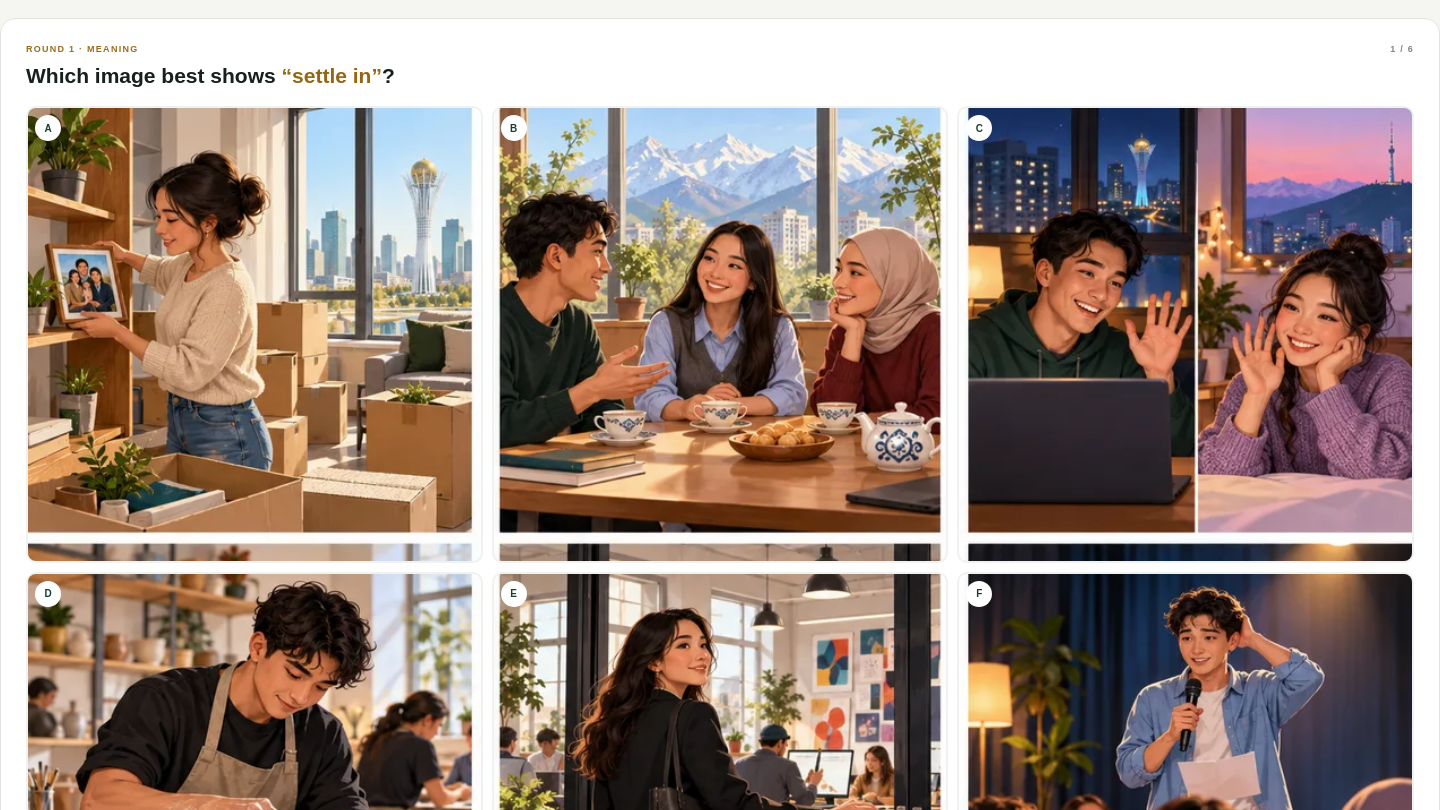
immersive activities › connects a vocabulary chunk to its localized scene
The image size is (1440, 810).
Check: the heading "Which image best shows “settle in”?" is shown, box [26,64,395,87]
Click the button named "Scene 1": (254,334) [26,106,483,563]
(page scrolled)
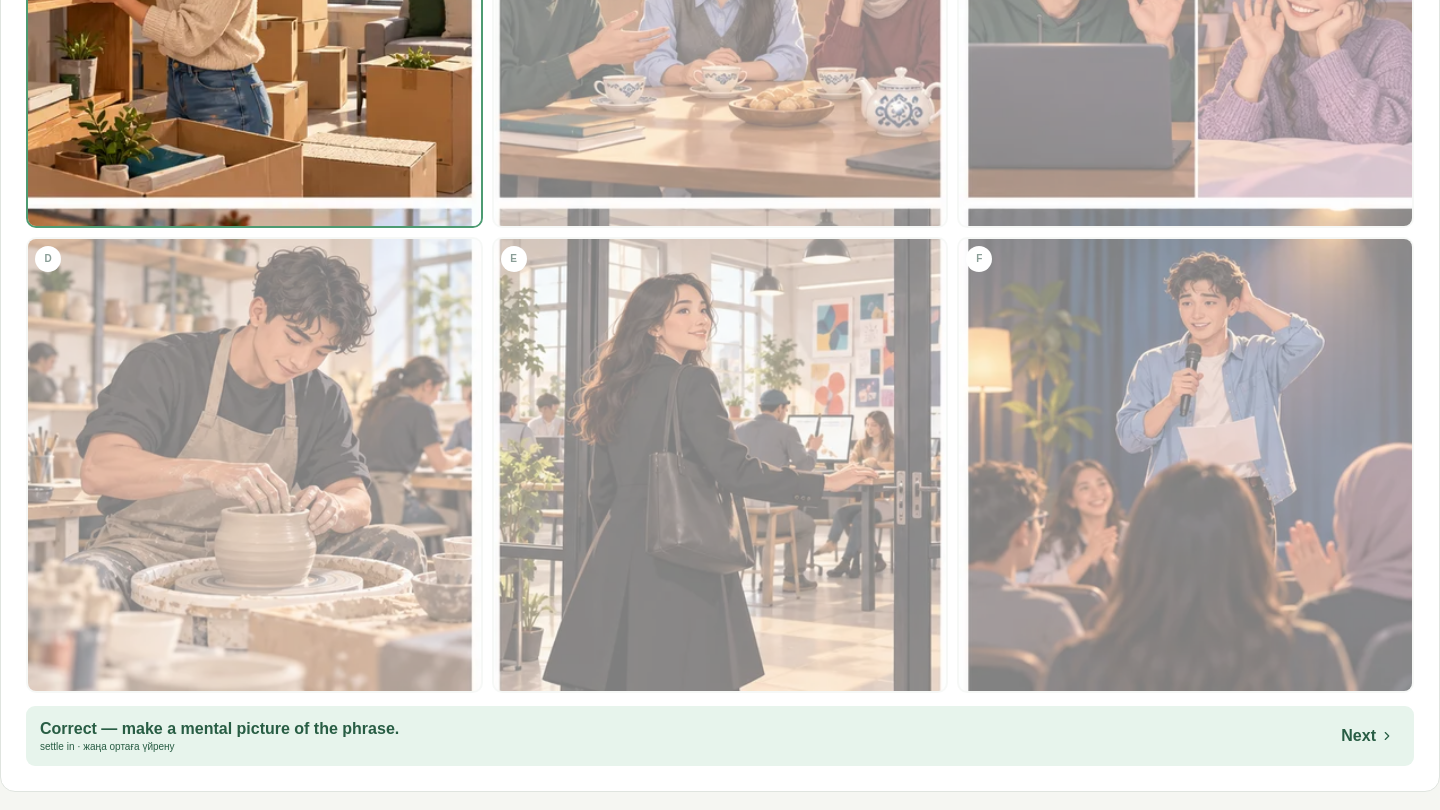
Check: the text "Correct — make a mental picture of the phrase." is shown, box [40,720,399,737]
